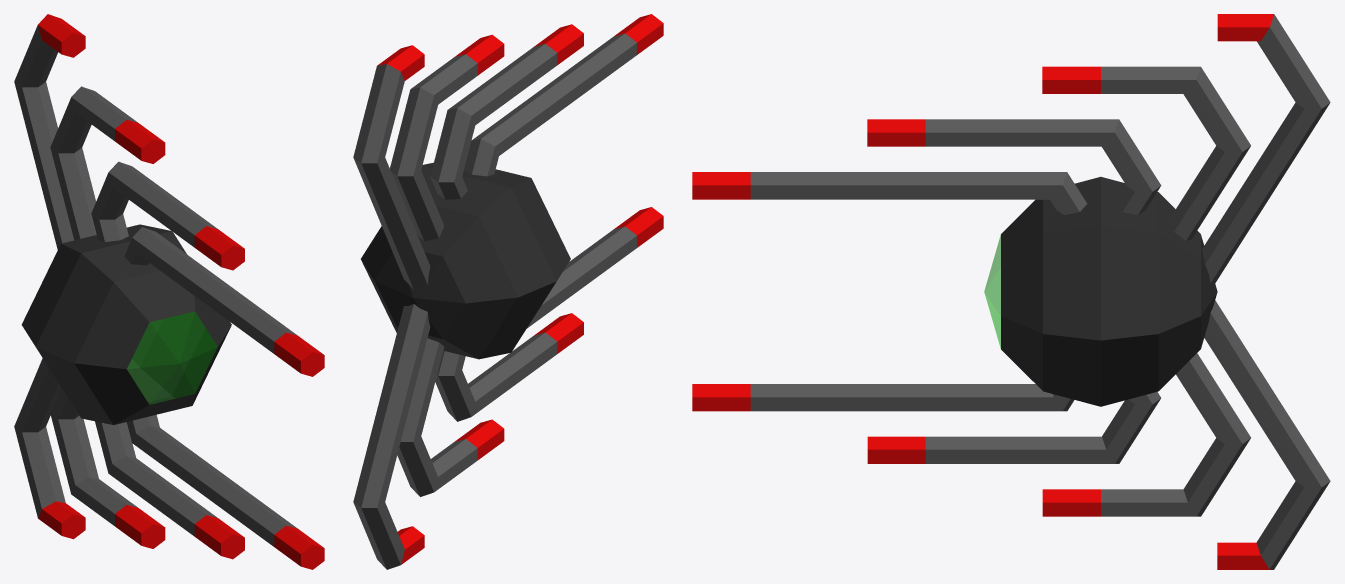
File: SquidwardEnemy.fbx
The picture shows the model from 3 angles, left to right: view 1: azimuth 30°, elevation 25°; view 2: azimuth 150°, elevation 25°; view 3: azimuth 270°, elevation 25°; orthographic projection. The views are drawn at different scales.
Parts seen in each view (by area): view 1: polySurface13, pSphere1; view 2: polySurface13, pSphere1; view 3: polySurface13, pSphere1.
Boxes of the visible parts, left/top/right/bottom form: polySurface13: left=14, top=14, right=324, bottom=569; pSphere1: left=21, top=224, right=231, bottom=424; polySurface13: left=353, top=14, right=663, bottom=569; pSphere1: left=361, top=162, right=570, bottom=359; polySurface13: left=692, top=14, right=1330, bottom=569; pSphere1: left=984, top=176, right=1217, bottom=406.
Bounding box in the file's own units: 3.96 × 10.51 × 10.94.
